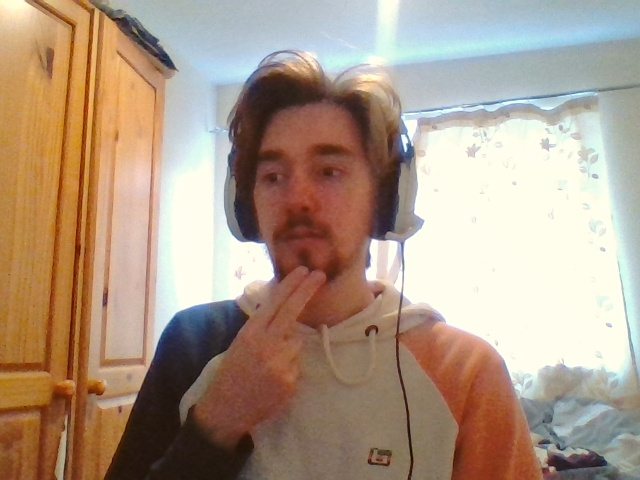afternoon: (215, 266, 326, 406)
